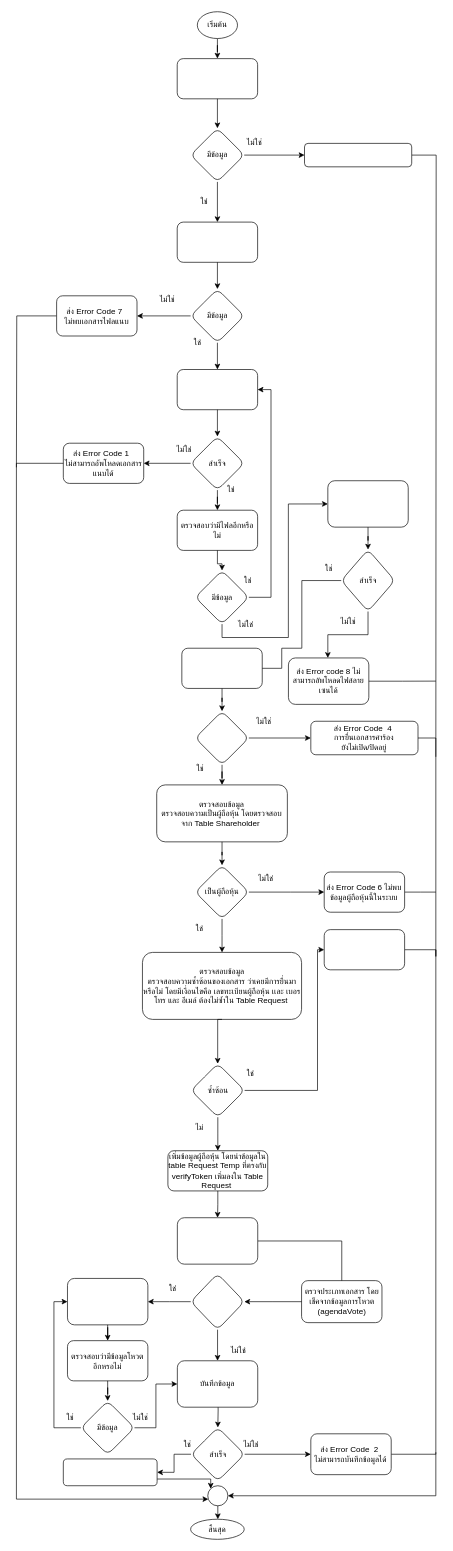
Some shapes in this 453 by 1551 pixel diagram are drawn without their labels. The centre of each missing label's shape, as x and y in pixels:
ค้นหาข้อมูลใน Table Request Temp ที่ verifyToken ตรงกัน: [217,78]
ตรวจสอบเวลาเปิดยื่นรับแบบคำร้องจาก table Meeting: [221,668]
ตรวจสอบไฟลแนบ: [217,241]
มีข้อมูลการโหวต: [217,1301]
ส่ง Error Code 3 รหัสยืนยันตัวตนไม่ถูกต้อง: [358,155]
ส่ง Error Code 5 มีการใช้งานผู้ถือหุ้นนี้ในระบบ: [364,949]
ส่งกลับข้อมูลผู้ถือหุ้น: [110,1472]
อัปโหลดไฟลแนบ: [217,389]
อัปโหลดไฟล์ลายเซนต์: [367,503]
เปิดรับเอกสาร: [222,738]
เพิ่มข้อมูลกรรมการผู้รับมอบฉันทะในข้อมูล Request: [217,1240]
เพิ่มข้อมูลโหวตใน Table RequestProxyVote: [107,1301]
